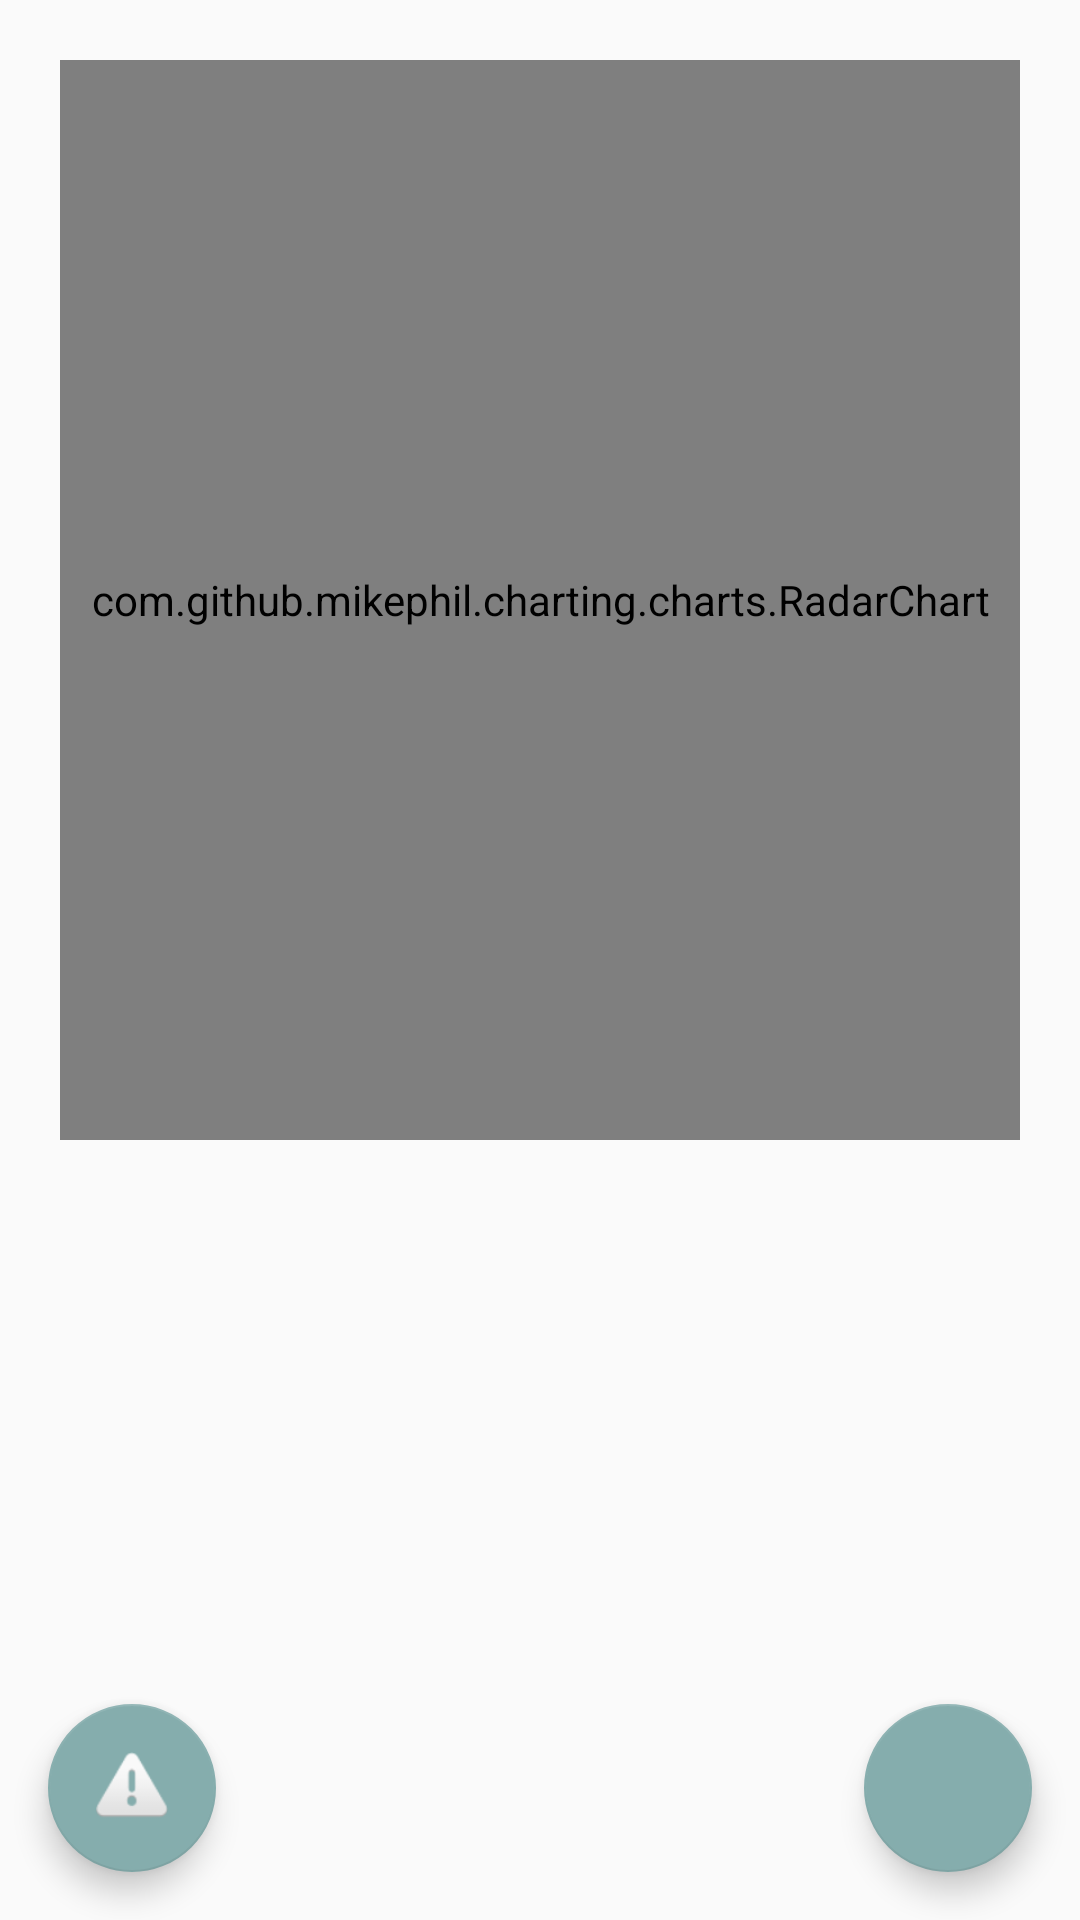

Named icons in this screenshot (1080×1920) and their centers, [x,y]:
alert: [132,1788]
